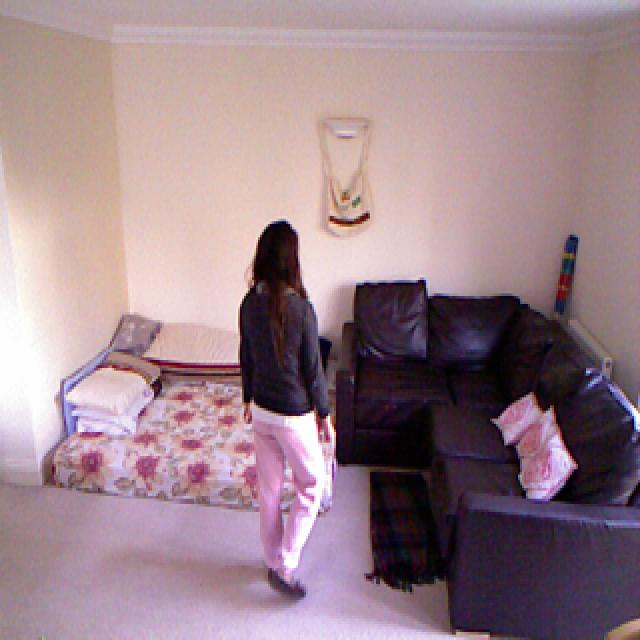stand: (228, 204, 343, 609)
